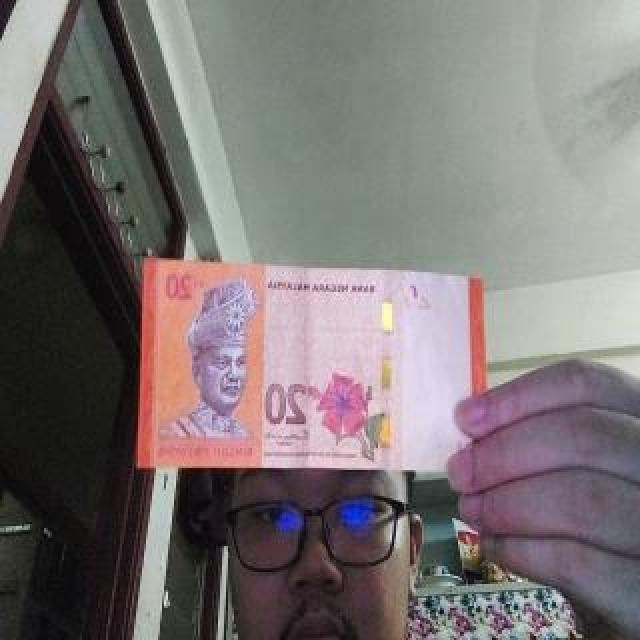20 Ringgit: (134, 244, 498, 487)
